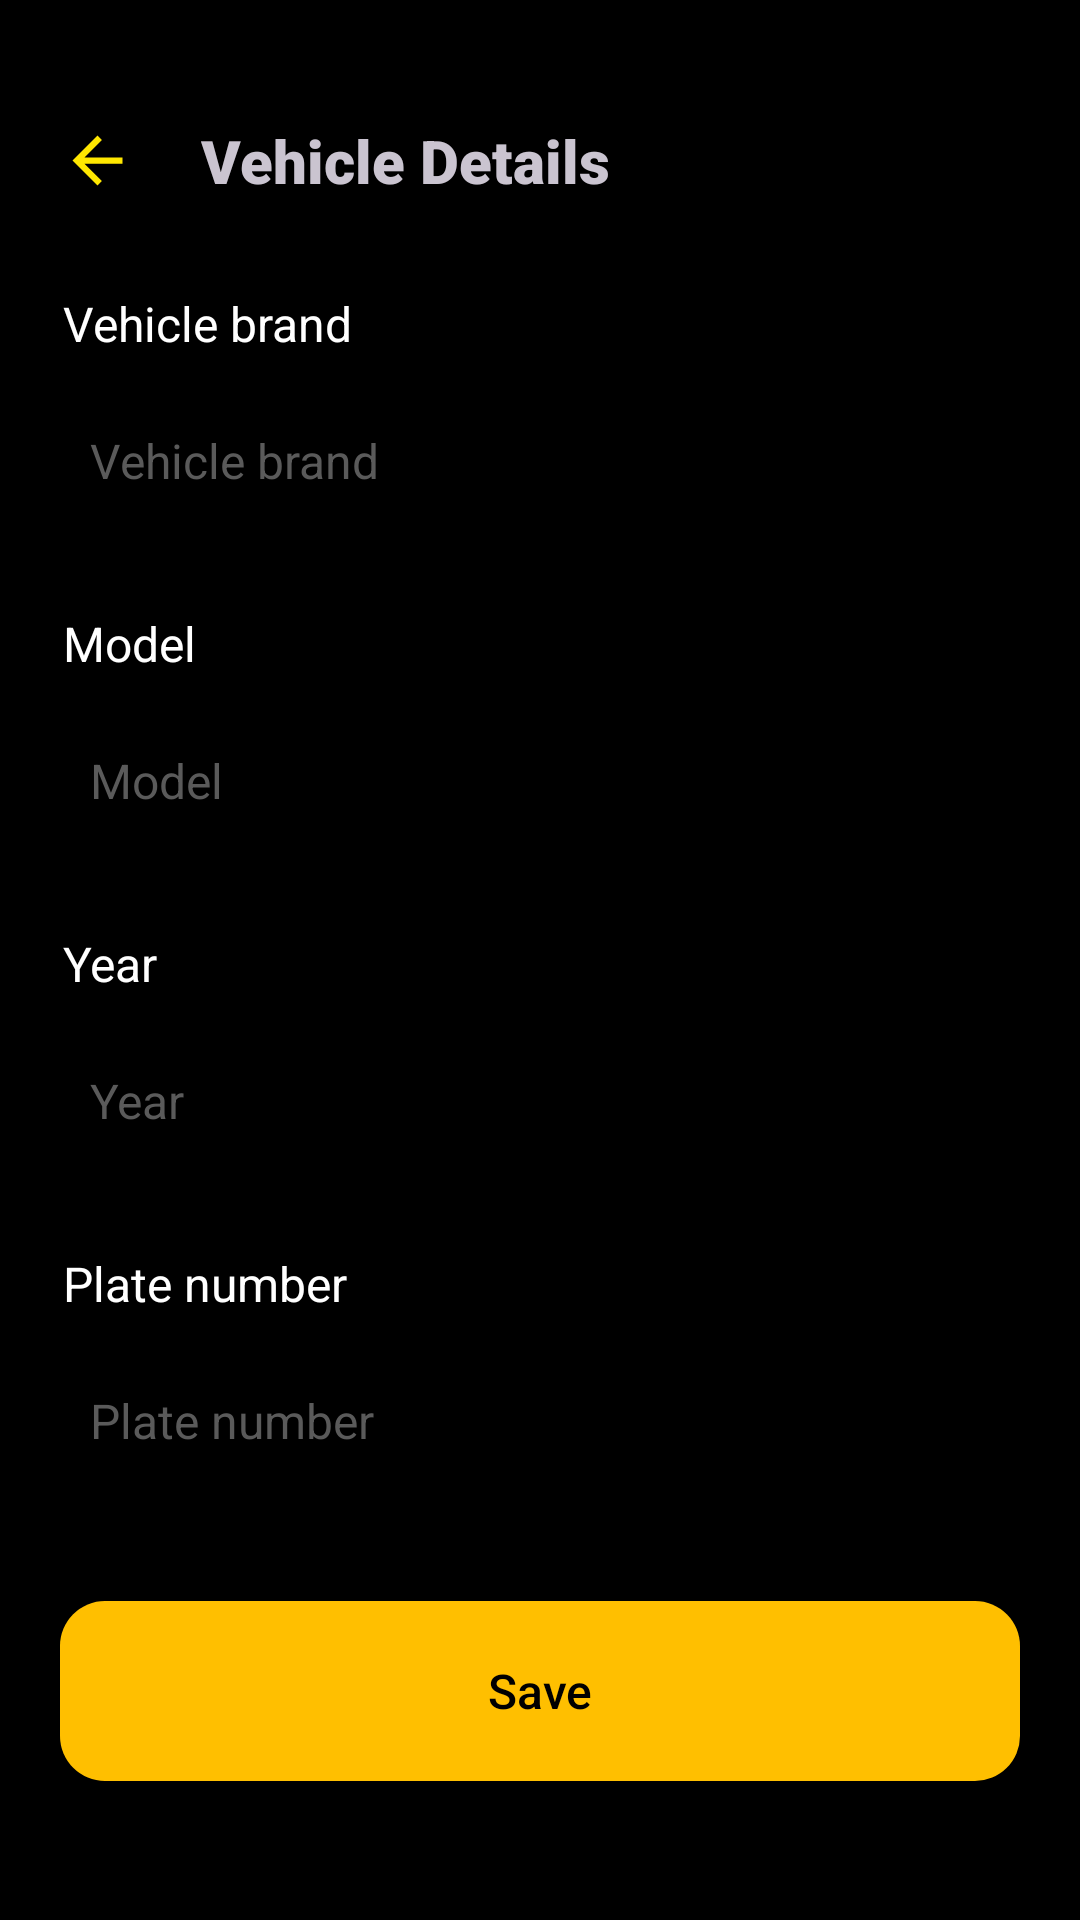

Where icons sit on this 1080×1920 app screen, as bbox(x1, y1, x2, y2):
back out: bbox(72, 135, 123, 186)
